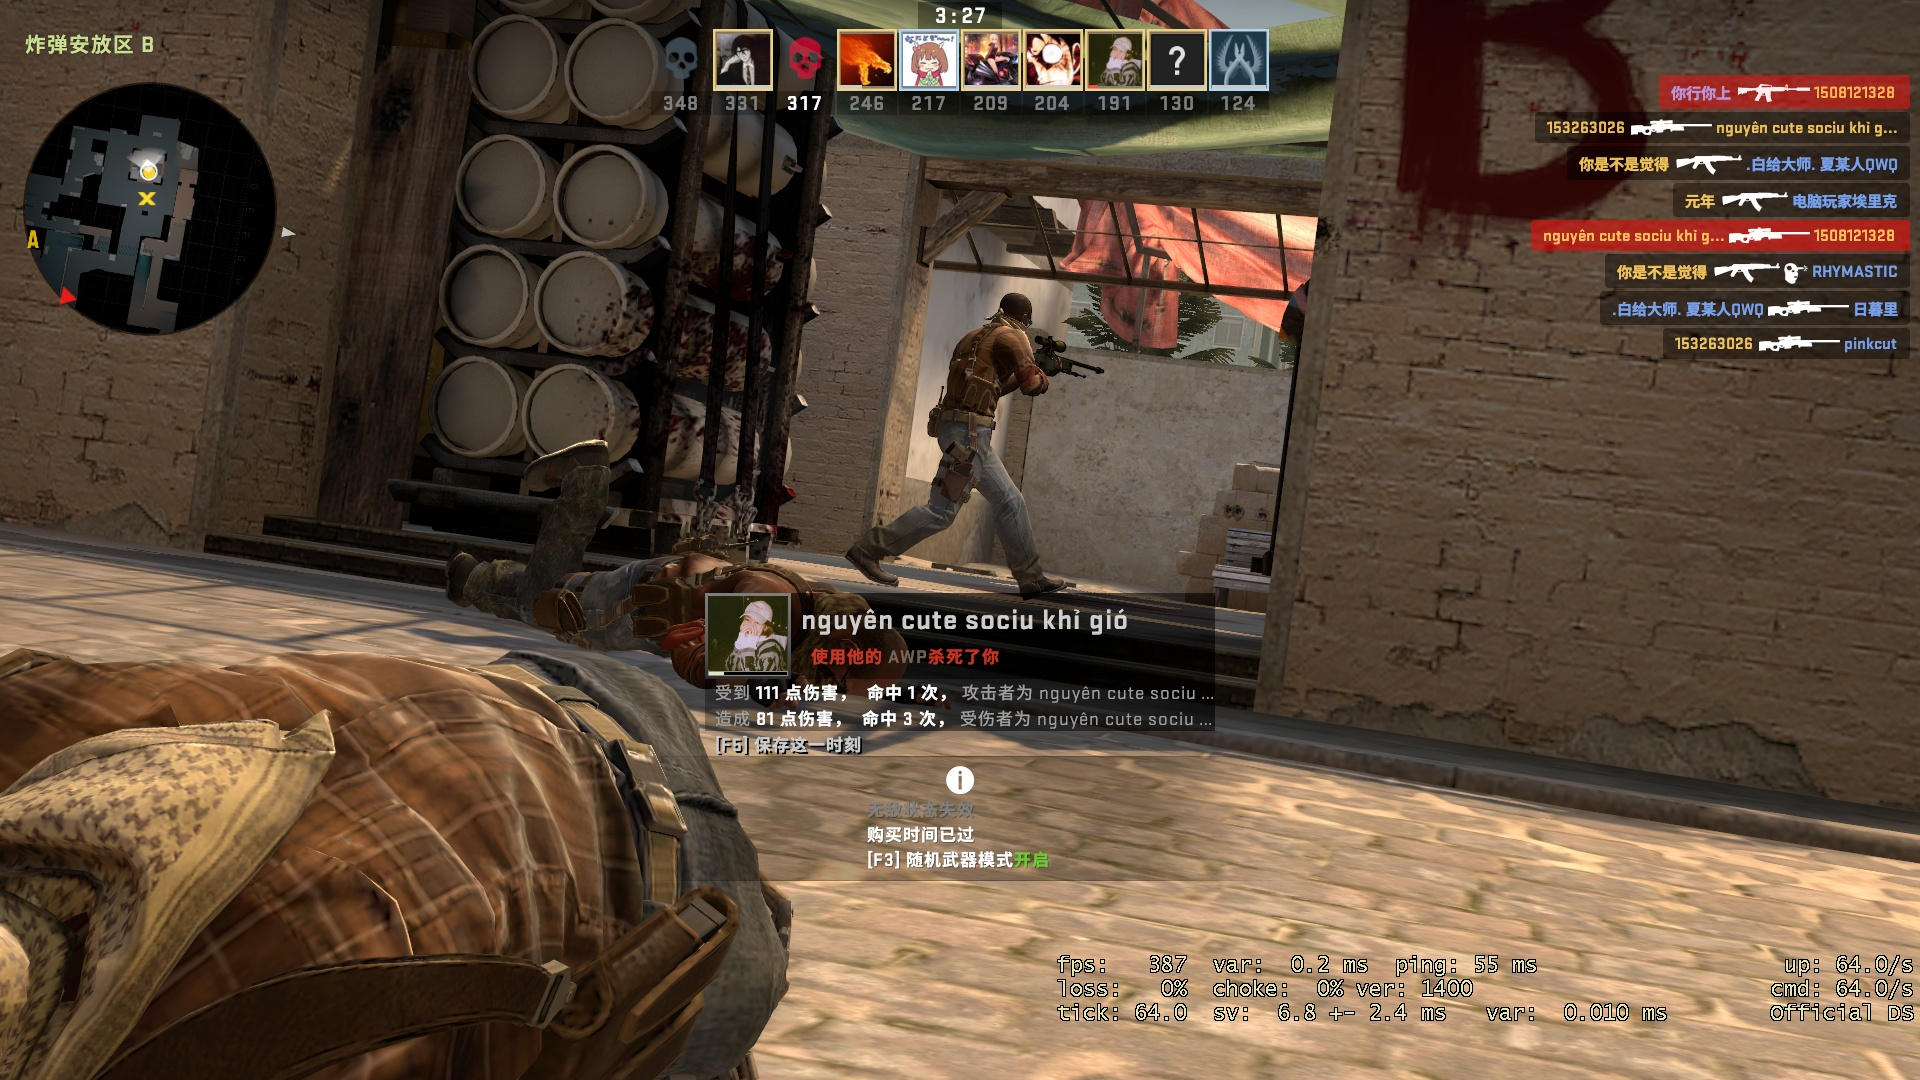body: (3, 636, 790, 992), (451, 519, 916, 691), (864, 286, 1067, 594)
head: (815, 591, 911, 692), (998, 289, 1038, 330)
